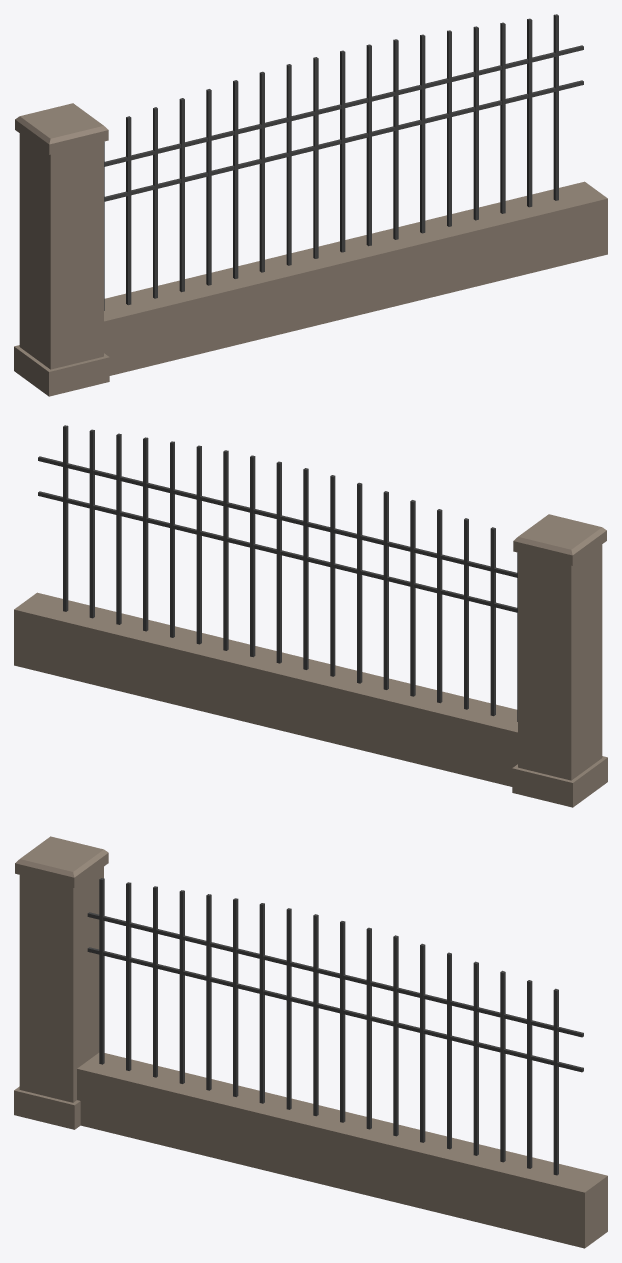
Rendered from Fence_07.fbx.
3 renders of one model, top to bottom at view 1: azimuth 30°, elevation 25°; view 2: azimuth 150°, elevation 25°; view 3: azimuth 330°, elevation 25°, orthographic.
Parts seen in each view (by area): view 1: Fence_07; view 2: Fence_07; view 3: Fence_07.
Boxes of the visible parts, x1,y1,x2,y2 form: Fence_07: [14, 14, 607, 396]; Fence_07: [14, 425, 607, 807]; Fence_07: [14, 836, 607, 1248].
Bounding box in the file's own units: 423 × 183 × 45.43.
